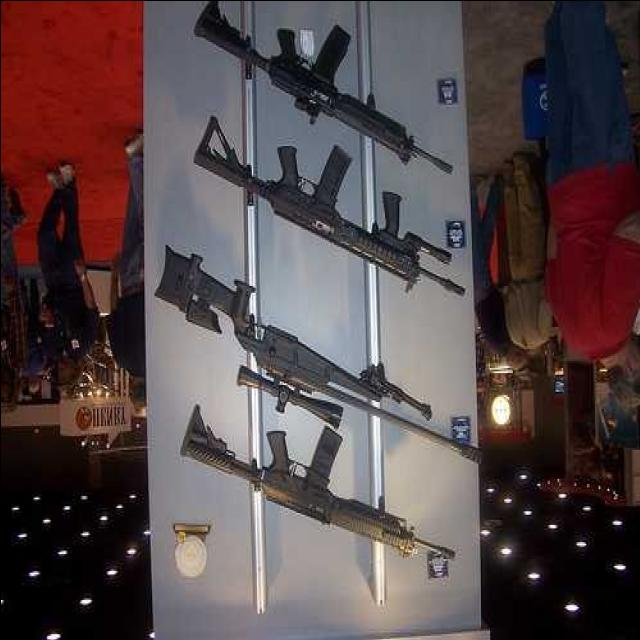heavyweapon: (150, 245, 508, 477), (183, 104, 494, 314), (172, 391, 474, 585), (188, 1, 467, 187)
